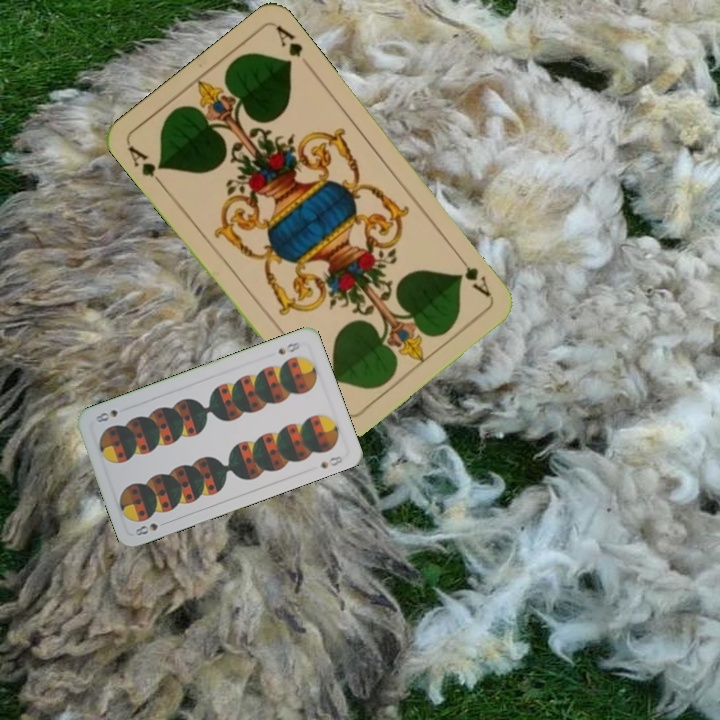GA: (124, 142, 168, 190), (453, 251, 495, 301)
S8: (131, 519, 161, 538), (274, 338, 302, 357)
